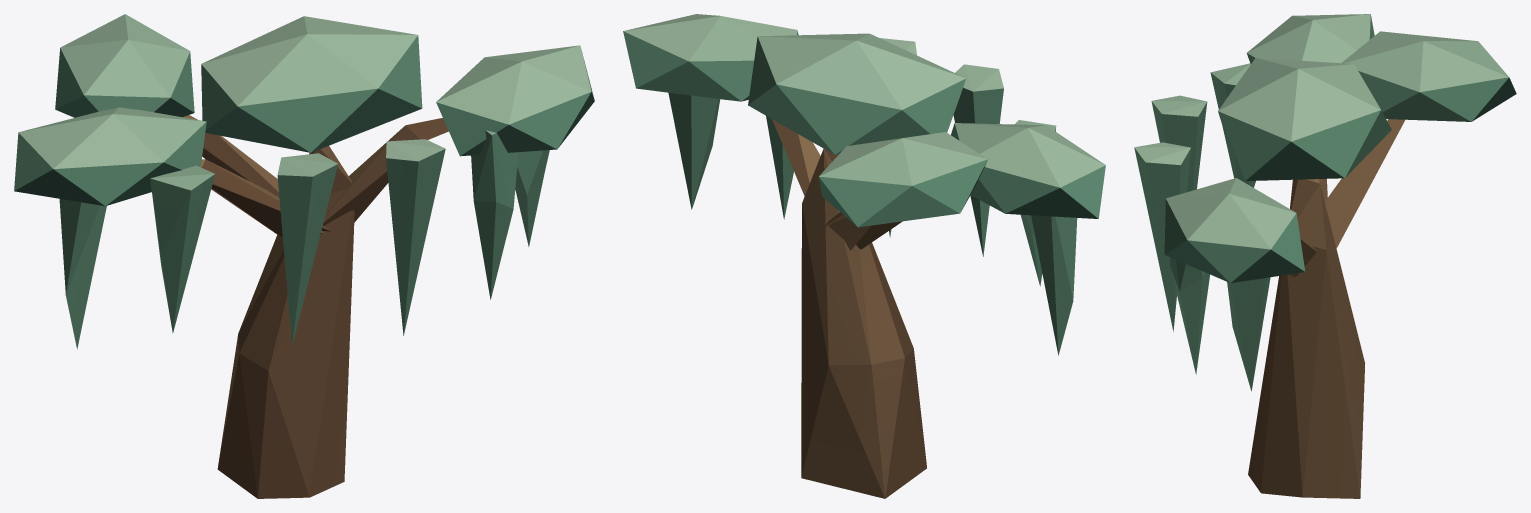
3 views of the same model, side by side, from view 1: azimuth 30°, elevation 25°; view 2: azimuth 150°, elevation 25°; view 3: azimuth 270°, elevation 25° (orthographic). The views are drawn at different scales.
Parts seen in each view (by area): view 1: WK_Tree_Willow_RiverMist_LOD2_Compact; view 2: WK_Tree_Willow_RiverMist_LOD2_Compact; view 3: WK_Tree_Willow_RiverMist_LOD2_Compact.
Boxes of the visible parts, box(x1,y1,x2,y2) form: WK_Tree_Willow_RiverMist_LOD2_Compact: box(14, 14, 594, 498); WK_Tree_Willow_RiverMist_LOD2_Compact: box(623, 14, 1105, 498); WK_Tree_Willow_RiverMist_LOD2_Compact: box(1134, 14, 1516, 498).
Bounding box in the file's own units: 6.1 × 4.85 × 3.99.
